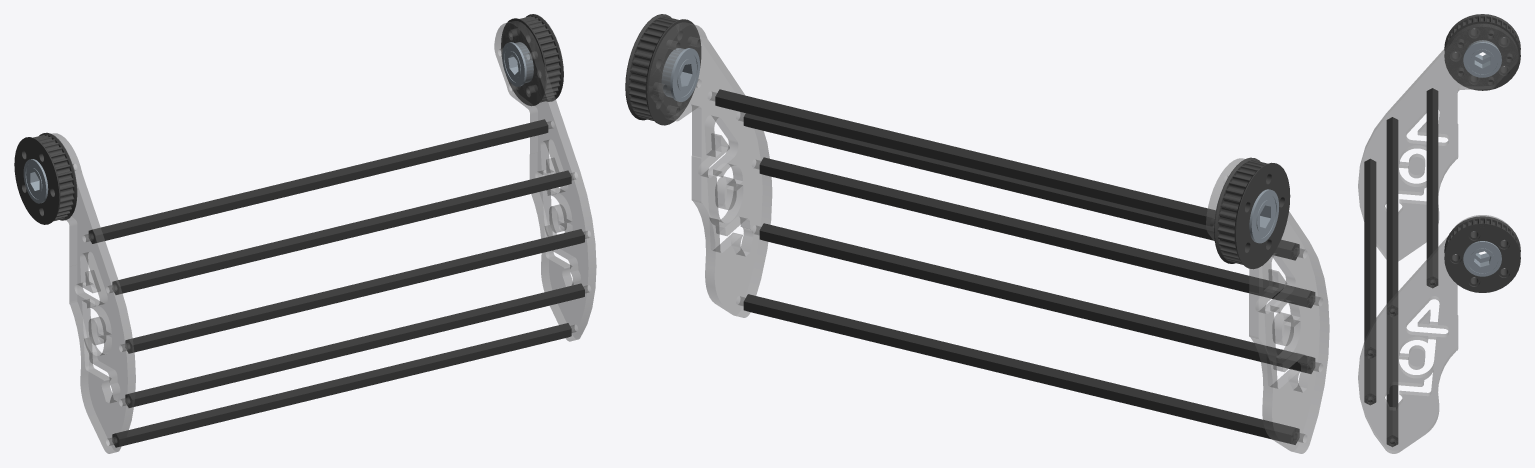
3 renders of one model, left to right at view 1: azimuth 30°, elevation 25°; view 2: azimuth 150°, elevation 25°; view 3: azimuth 270°, elevation 25°, orthographic. The views are drawn at different scales.
Parts seen in each view (by area): view 1: Shaft (×5), trap/amp hood (×2), Amp Hood Pulley (×2), .5" Hex ID 1.125" OD Flanged Bearing (217-2734) (×2); view 2: Shaft (×5), trap/amp hood (×2), Amp Hood Pulley (×2), .5" Hex ID 1.125" OD Flanged Bearing (217-2734) (×2); view 3: trap/amp hood (×2), Shaft (×5), Amp Hood Pulley (×2), .5" Hex ID 1.125" OD Flanged Bearing (217-2734) (×2).
Boxes of the visible parts, x1,y1,x2,y2 form: Shaft (×5): (88, 119, 584, 447); trap/amp hood (×2): (52, 21, 596, 453); Amp Hood Pulley (×2): (14, 14, 563, 224); .5" Hex ID 1.125" OD Flanged Bearing (217-2734) (×2): (23, 42, 533, 203); Shaft (×5): (715, 89, 1315, 444); trap/amp hood (×2): (648, 22, 1329, 453); Amp Hood Pulley (×2): (625, 14, 1290, 269); .5" Hex ID 1.125" OD Flanged Bearing (217-2734) (×2): (661, 48, 1279, 243); trap/amp hood (×2): (1358, 23, 1518, 453); Shaft (×5): (1364, 88, 1438, 446); Amp Hood Pulley (×2): (1444, 14, 1520, 292); .5" Hex ID 1.125" OD Flanged Bearing (217-2734) (×2): (1463, 40, 1501, 276).
Size of the model in its own units: 0.4032 by 0.2114 by 0.1312.
